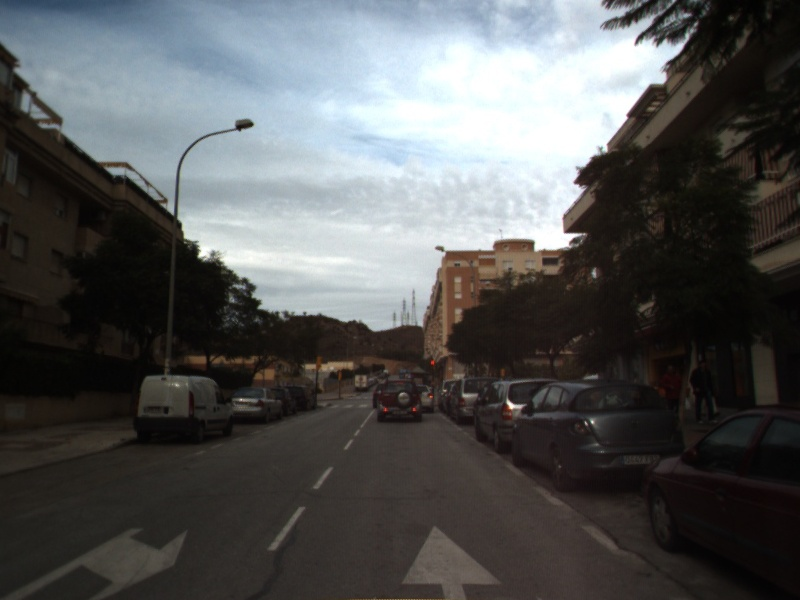STRAIGHT: (399, 522, 505, 600)
